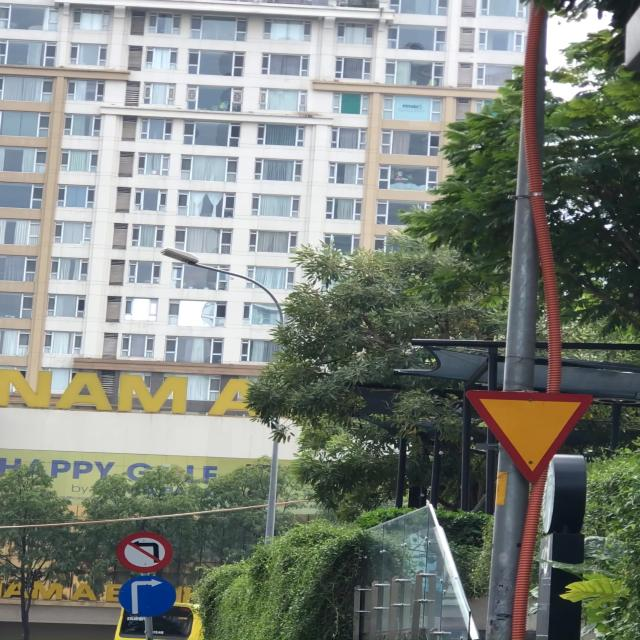Bien bao cam re trai: (115, 531, 176, 574)
Bien bao giao nhau voi duong uu tien: (461, 385, 599, 489)
Bien bao huong di phai theo: (113, 575, 184, 619)
